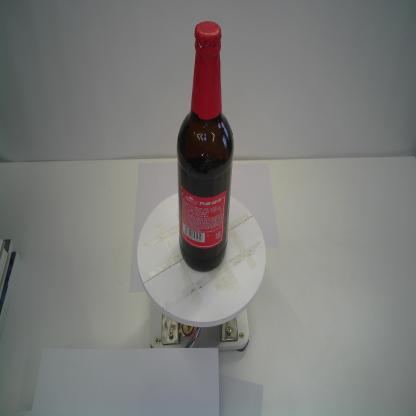Alcohol: (175, 19, 235, 273)
